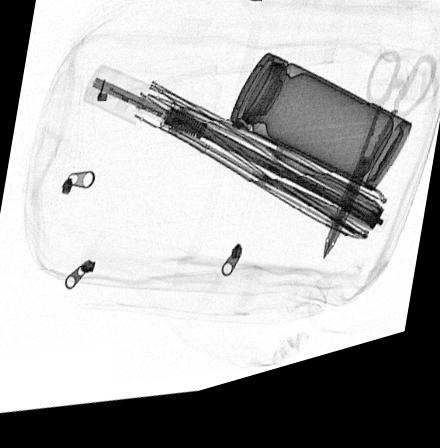Scissors: (321, 68, 436, 278)
